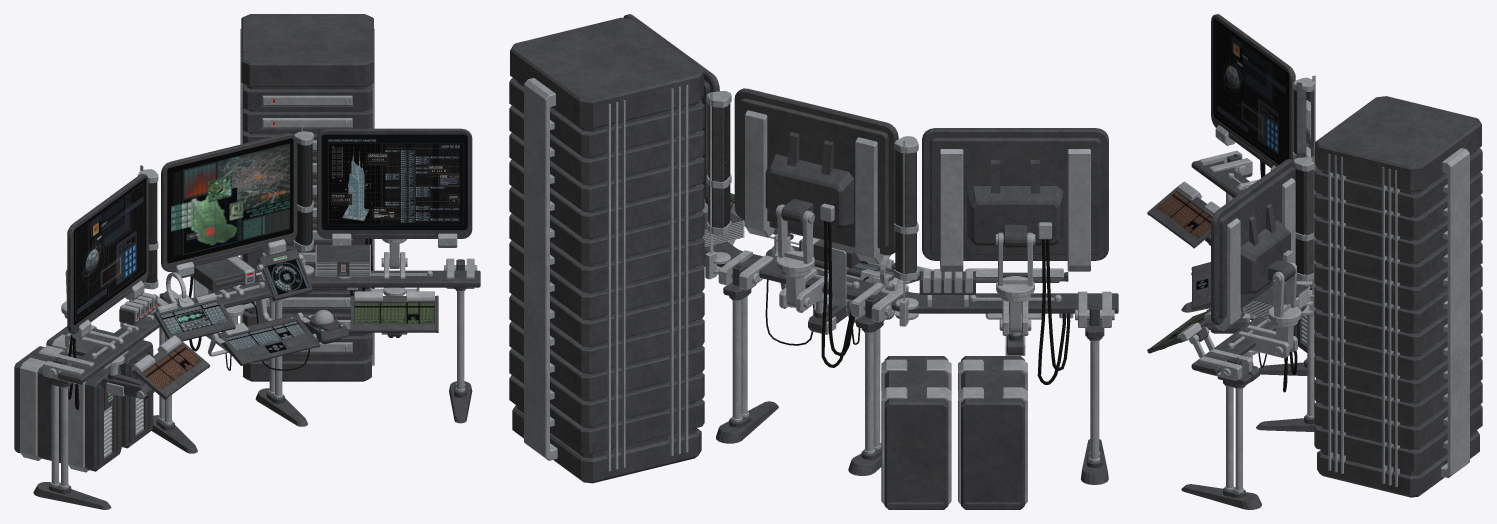
Rendered from console5.fbx.
The picture shows the model from 3 angles, left to right: view 1: azimuth 30°, elevation 25°; view 2: azimuth 150°, elevation 25°; view 3: azimuth 270°, elevation 25°; orthographic projection. The views are drawn at different scales.
Visible parts, largest first — view 1: DysCFRConsole2_36007.Shape; view 2: DysCFRConsole2_36007.Shape; view 3: DysCFRConsole2_36007.Shape.
Part boxes in pixels (x1,y1,x2,y2): DysCFRConsole2_36007.Shape: (14, 14, 480, 509); DysCFRConsole2_36007.Shape: (509, 14, 1118, 509); DysCFRConsole2_36007.Shape: (1147, 14, 1482, 509).
Bounding box in the file's own units: 298 × 210 × 192.
15 materials, 10 textured.
